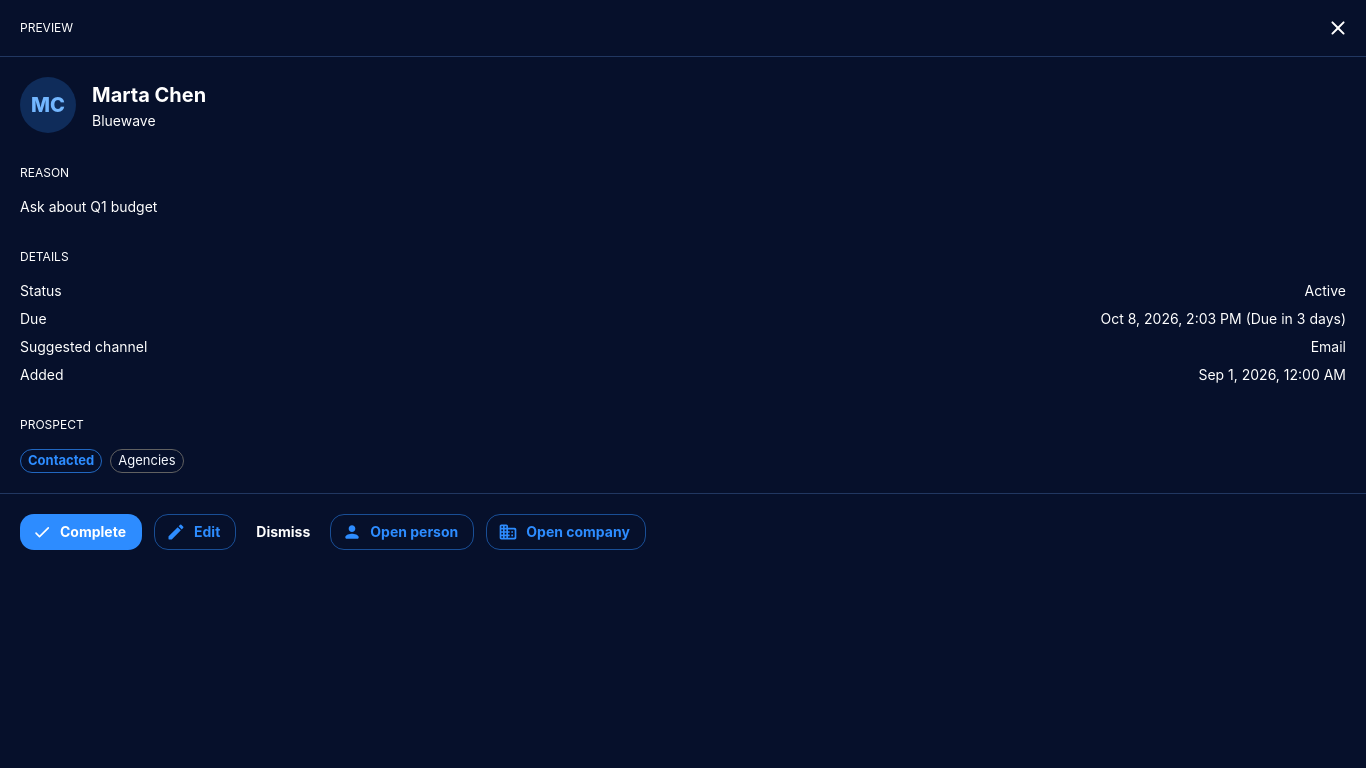
FollowUpPreviewPanel › explains a failed completion without raw text
The width and height of the screenshot is (1366, 768).
Click the button "Complete" at (81, 532), box [20,514,142,550]
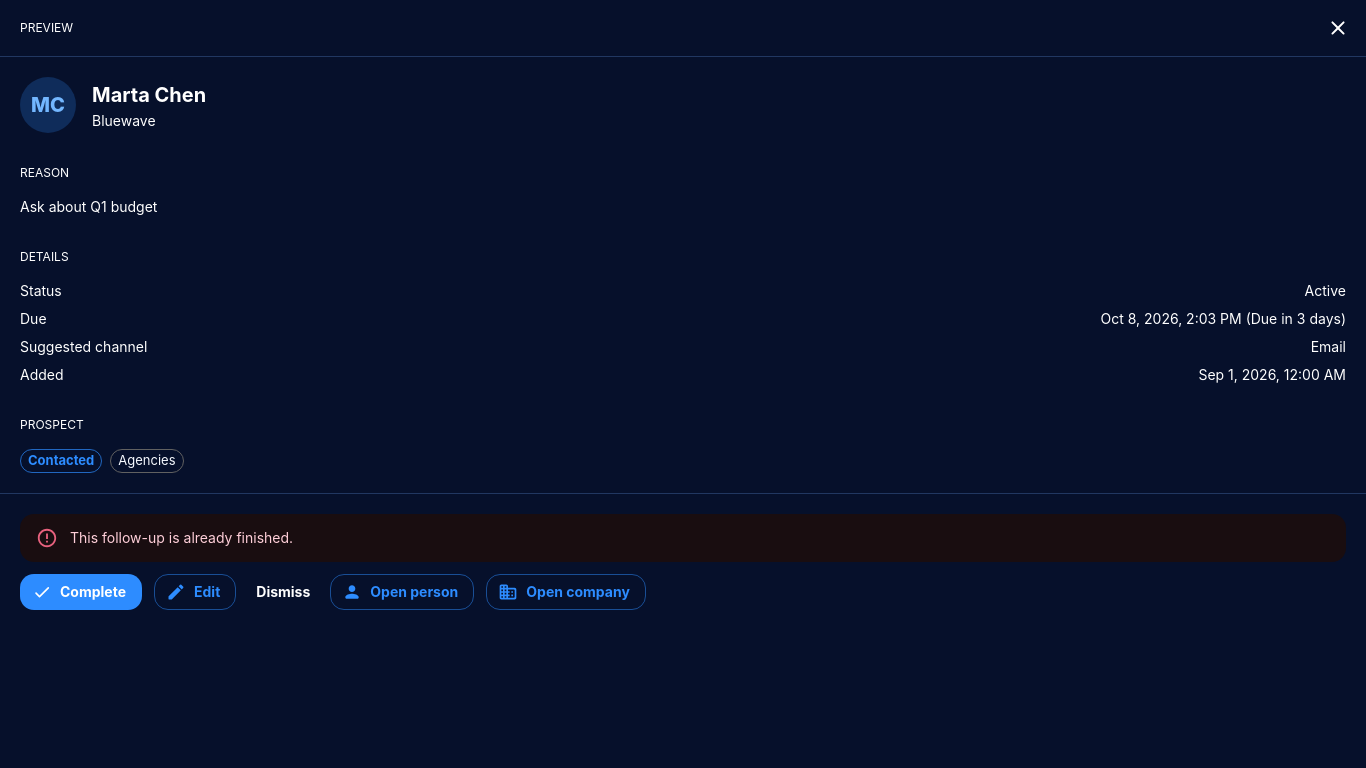
Check: the text "This follow-up is already finished." is shown, box [70,529,293,546]
